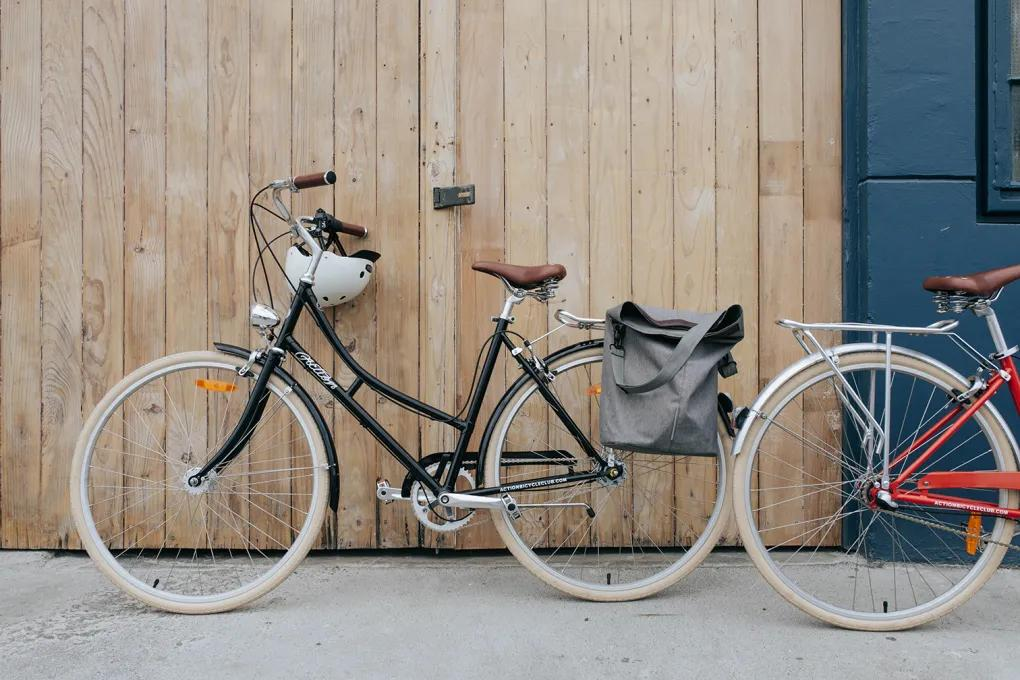bicycle: (65, 165, 731, 633), (736, 253, 1020, 633)
